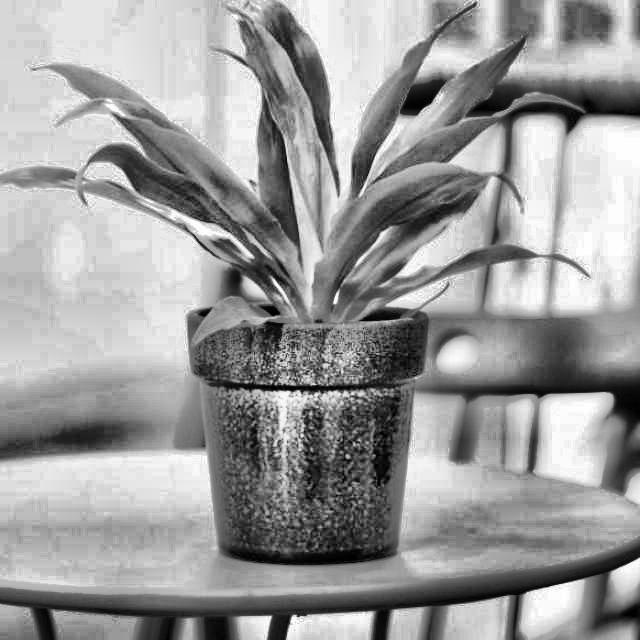plants: (38, 10, 544, 307)
